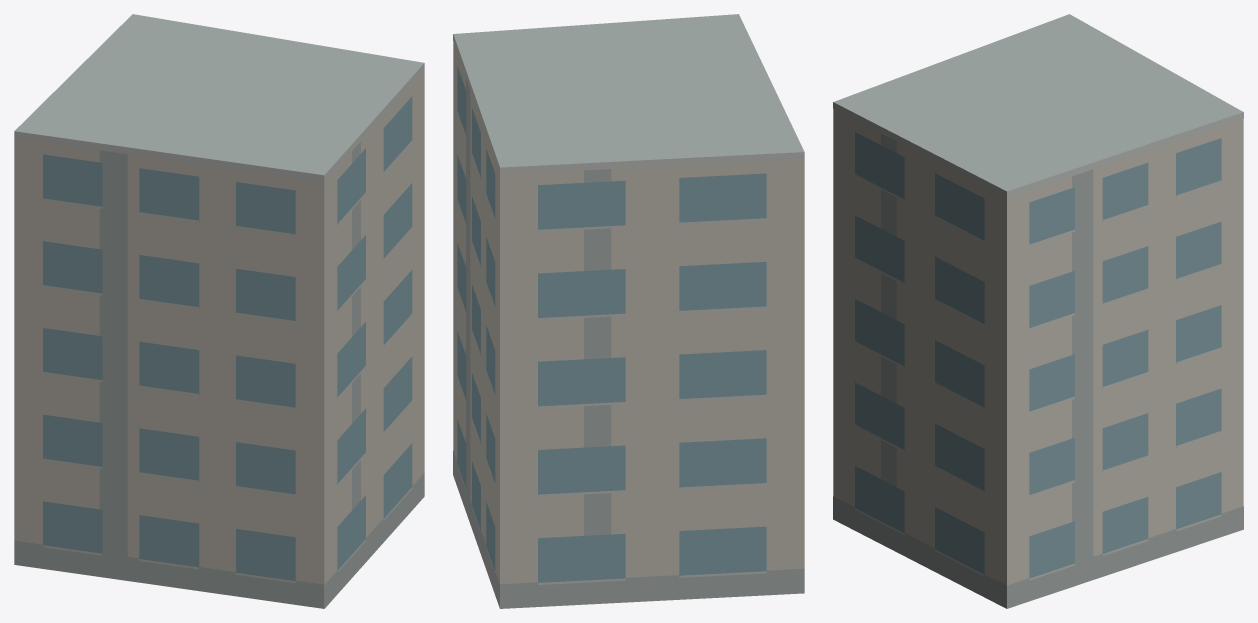
The model's file is survey-upis-32729618.glb.
The picture shows the model from 3 angles, left to right: view 1: azimuth 30°, elevation 25°; view 2: azimuth 150°, elevation 25°; view 3: azimuth 270°, elevation 25°; orthographic projection. The views are drawn at different scales.
Visible parts, largest first — view 1: survey-upis-32729618.tmp; view 2: survey-upis-32729618.tmp; view 3: survey-upis-32729618.tmp.
Boxes of the visible parts, <box> form: survey-upis-32729618.tmp: <box>14,14,424,608</box>; survey-upis-32729618.tmp: <box>453,14,804,608</box>; survey-upis-32729618.tmp: <box>833,14,1243,608</box>.
Size of the model in its own units: 13.87 by 15.2 by 13.55.
